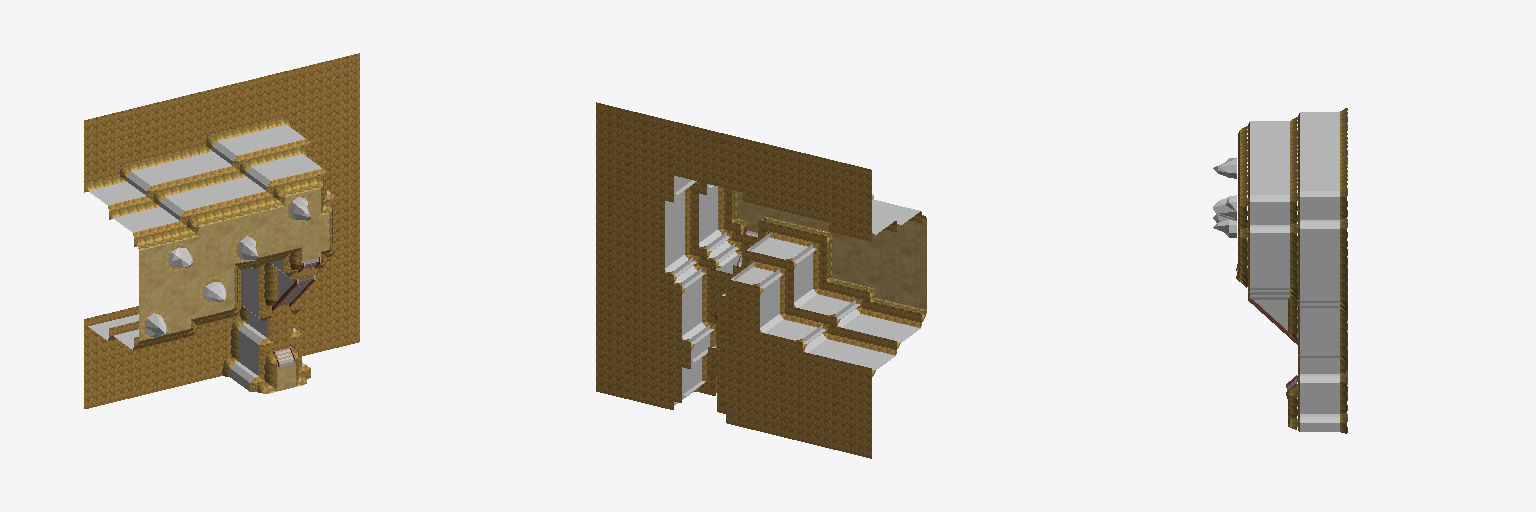
3 renders of one model, left to right at view 1: azimuth 30°, elevation 25°; view 2: azimuth 150°, elevation 25°; view 3: azimuth 270°, elevation 25°, orthographic.
Parts seen in each view (by area): view 1: map; view 2: map; view 3: map.
Part boxes in pixels (x1,y1,x2,y2): map: (84, 53, 359, 408); map: (596, 102, 926, 458); map: (1213, 108, 1347, 433).
Bounding box in the file's own units: 32 × 32 × 13.54.
8 materials, 7 textured.